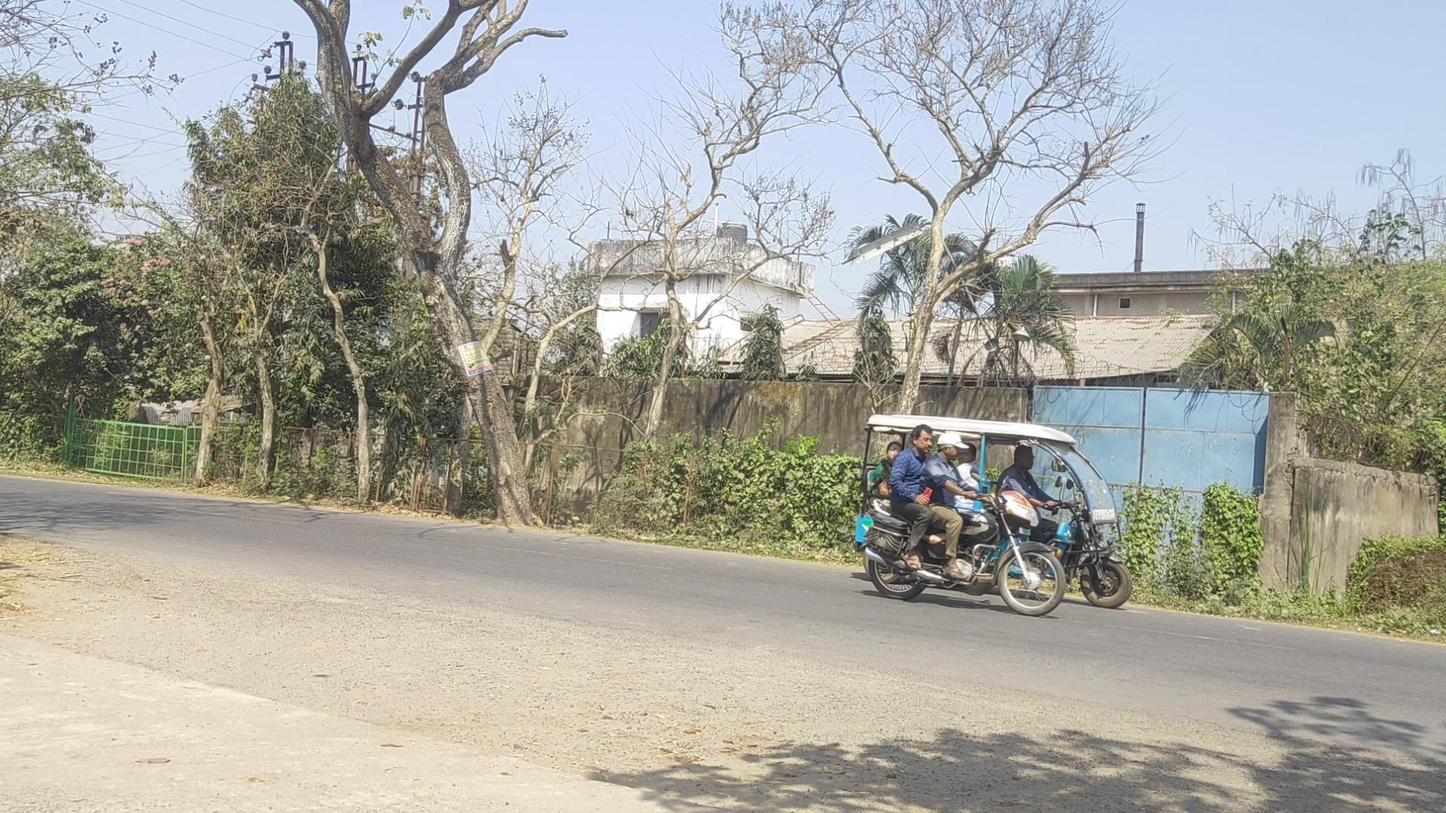Auto: (854, 414, 1132, 609)
bike: (856, 425, 1066, 616)
